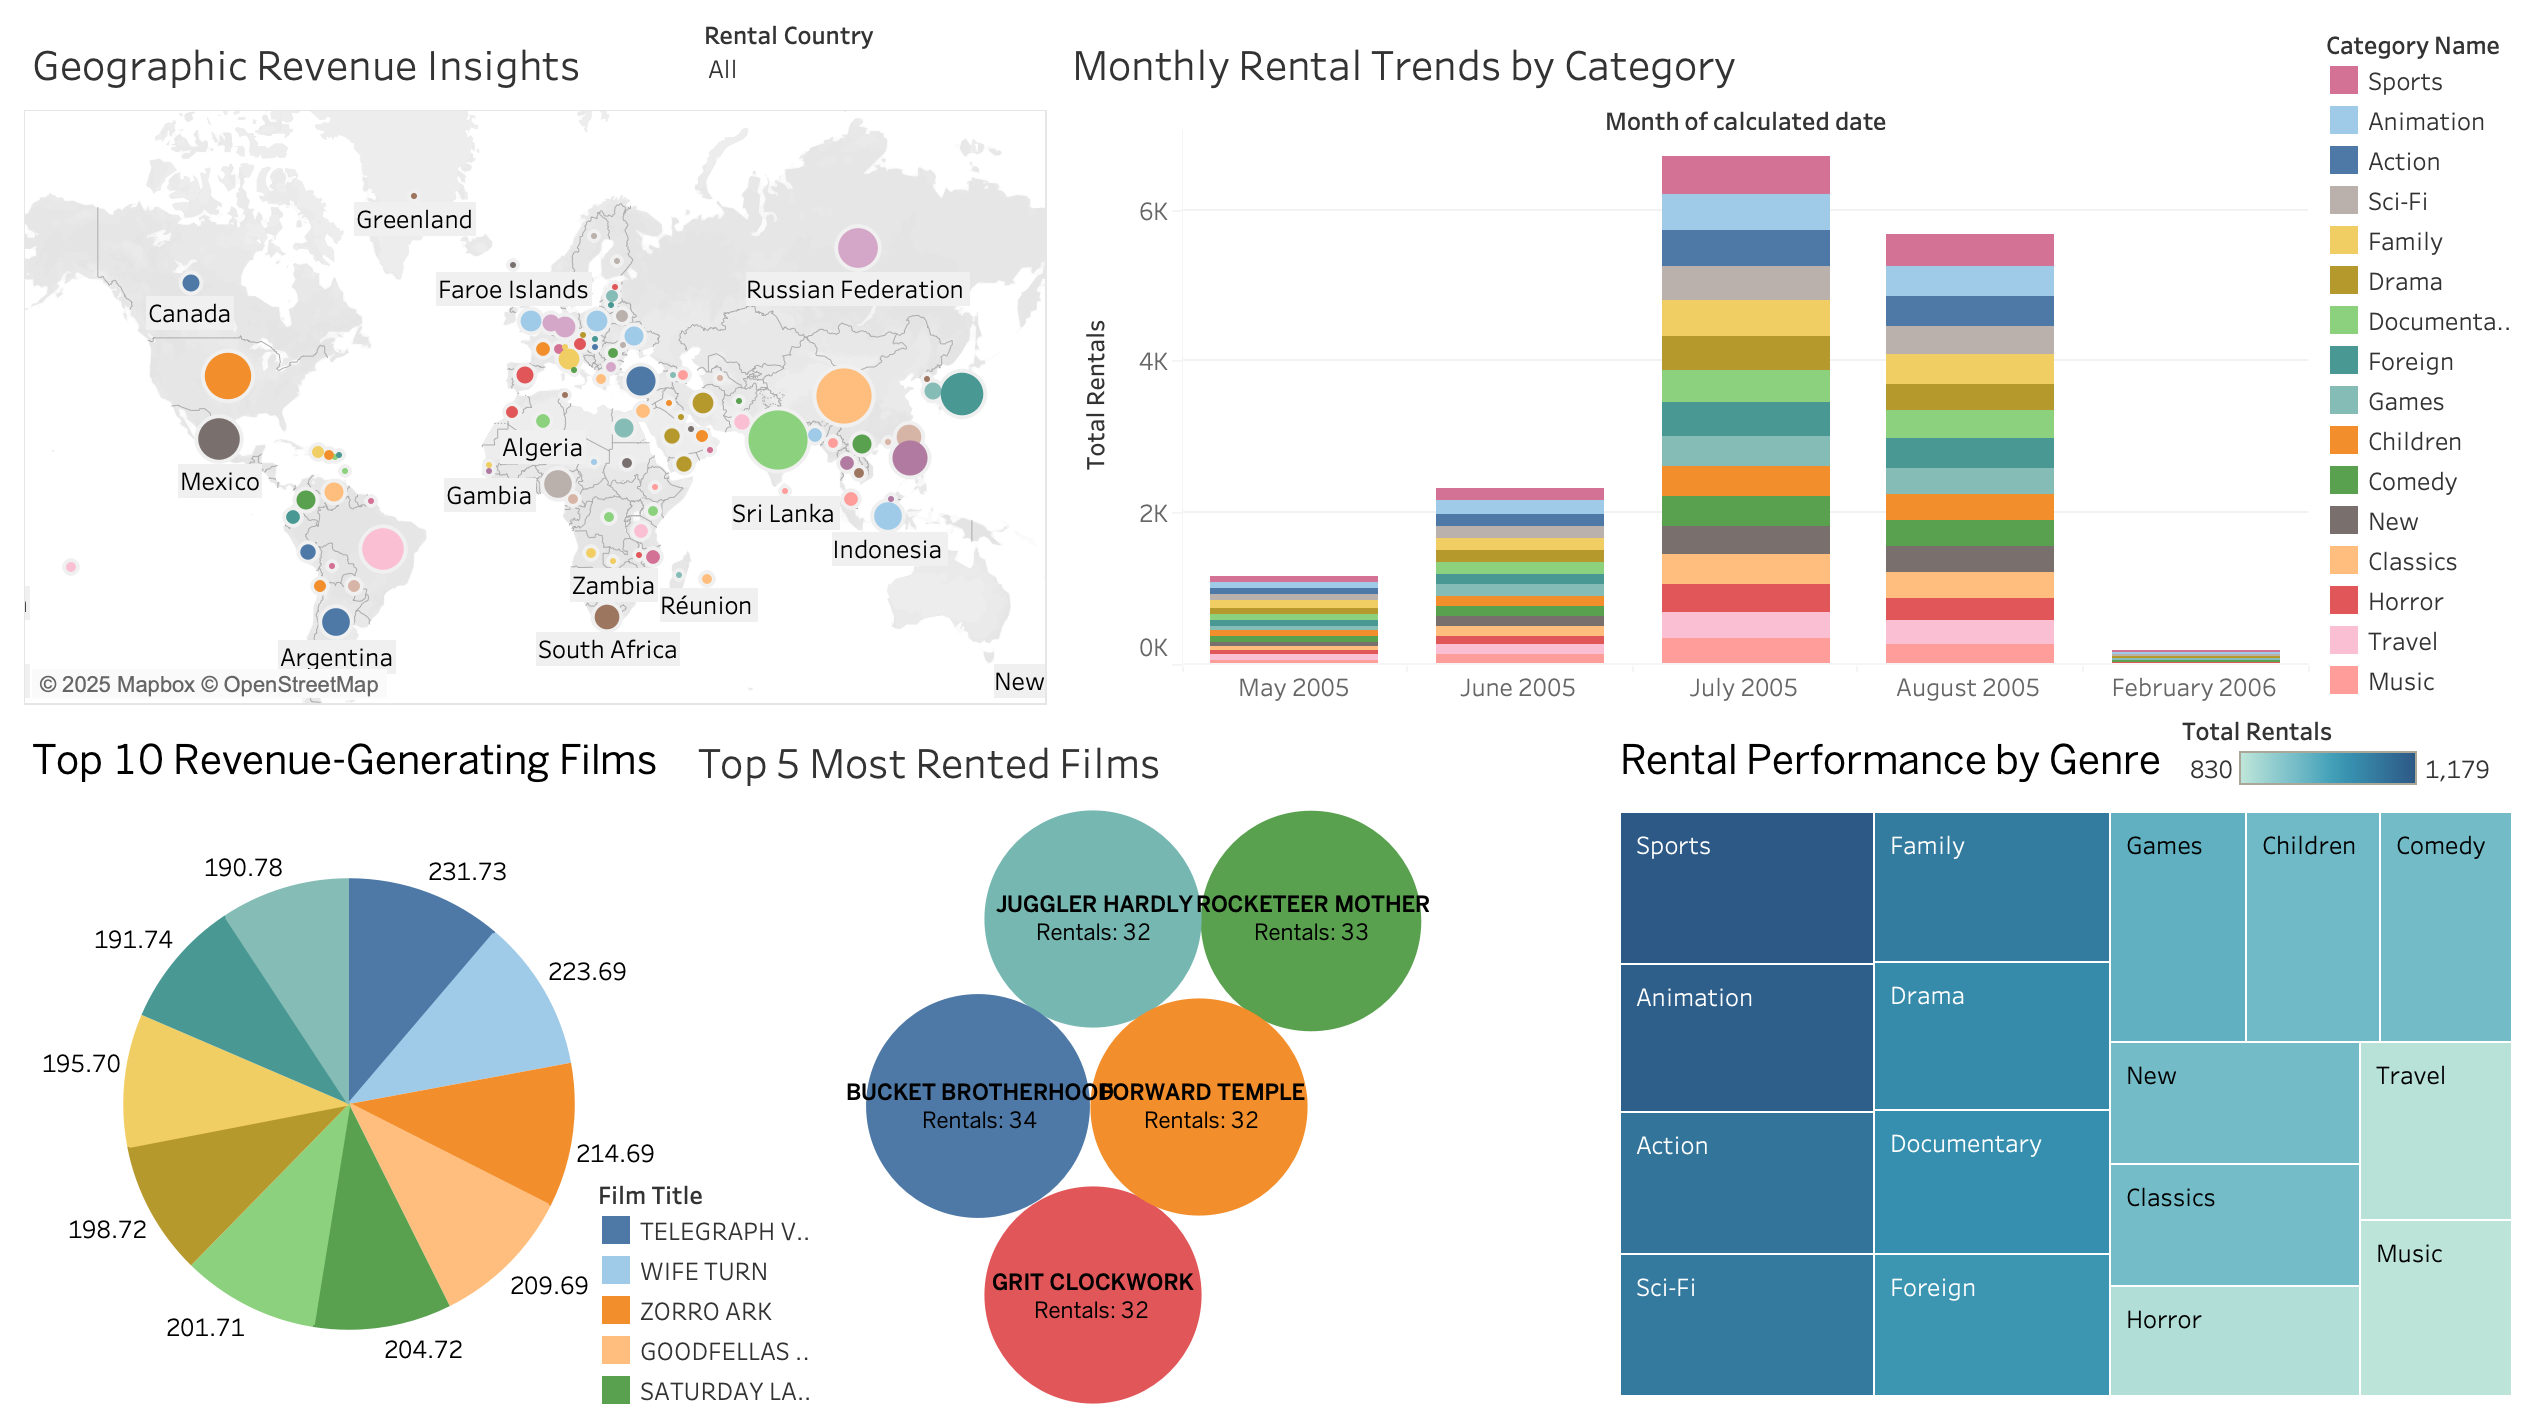

The page's visual inventory and layout, read from the dashboard file:
{"tool":"tableau","page":{"name":"Dash","canvas":[1000,1000],"units":"permille","ordinal":0},"visuals":[{"type":"worksheet","title":"Geographic Revenue Insights","mark":"Circle","box":[6.3,11.2,408.7,488.8]},{"type":"filter","title":"Geographic Revenue Insights","param":"[federated.04dd5l81dseeu31h8srfk02n5iop].[none:rental_country:nk]","box":[276.7,11.2,132.1,72.8]},{"type":"worksheet","title":"Monthly Rental Trends by Category","mark":"Bar","rows":["total_rentals"],"cols":["Calculation_3718706708327944192"],"box":[415,11.2,495.3,488.8]},{"type":"legend","title":"Monthly Rental Trends by Category","param":"[federated.04dd5l81dseeu31h8srfk02n5iop].[none:category_name:nk]","box":[910.3,11.2,83.4,488.8]},{"type":"legend","title":"Rental Performance by Genre","param":"[federated.04dd5l81dseeu31h8srfk02n5iop].[sum:total_rentals:qk]","box":[857.7,495.1,125,61.7]},{"type":"worksheet","title":"TOP 10 Revenue","mark":"Pie","box":[6.3,500,261.7,488.8]},{"type":"worksheet","title":"Top 5 Most Rented Films","mark":"Circle","box":[268,500,362.8,488.8]},{"type":"worksheet","title":"Rental Performance by Genre","mark":"Automatic","box":[630.8,500,362.9,488.8]},{"type":"legend","title":"TOP 10 Revenue","param":"[federated.04dd5l81dseeu31h8srfk02n5iop].[none:title:nk]","box":[234.3,822.1,86.5,163.9]}]}

Visuals, with their boxes on the dashboard's canvas, which has no fixed pixel size, in thousandths of its width and height (x1, y1, x2, y2). These are canvas units, not pixel positions in the 2544x1428 screenshot, which may show the page scaled, cropped or inside an application window:
"Geographic Revenue Insights" worksheet (Circle marks): Rect(6, 11, 415, 500)
"Geographic Revenue Insights" filter: Rect(277, 11, 409, 84)
"Monthly Rental Trends by Category" worksheet (Bar marks): Rect(415, 11, 910, 500)
"Monthly Rental Trends by Category" legend: Rect(910, 11, 994, 500)
"Rental Performance by Genre" legend: Rect(858, 495, 983, 557)
"TOP 10 Revenue" worksheet (Pie marks): Rect(6, 500, 268, 989)
"Top 5 Most Rented Films" worksheet (Circle marks): Rect(268, 500, 631, 989)
"Rental Performance by Genre" worksheet: Rect(631, 500, 994, 989)
"TOP 10 Revenue" legend: Rect(234, 822, 321, 986)
